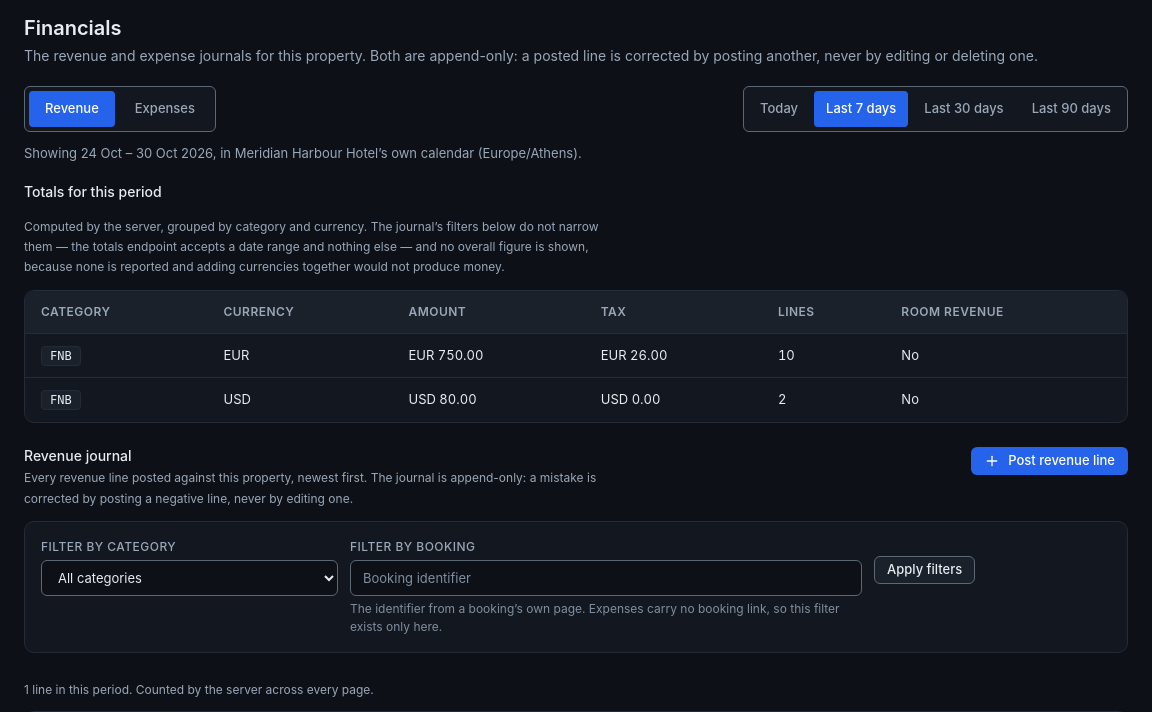
the journal filters › reads a 404 as a wrong filter rather than an empty result
Select "Spa & Wellness (SPA)" in the dropdown labelled "Filter by category". click: (190, 578)
box: [41,560,338,596]
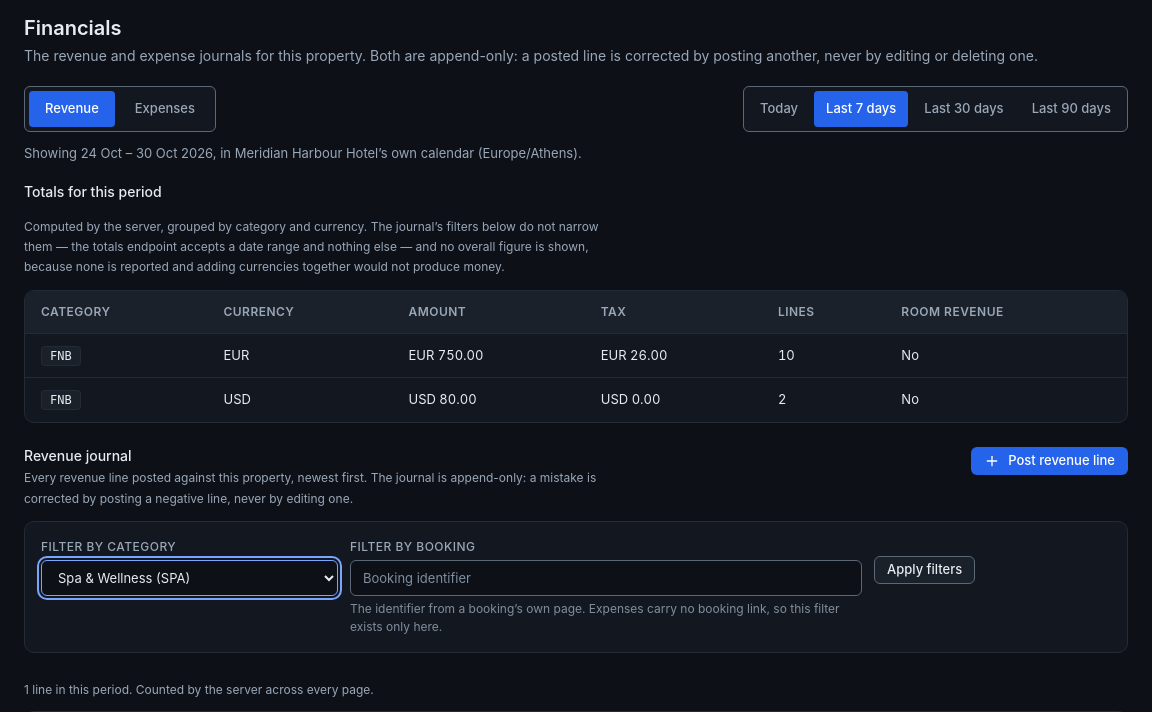
Click the button "Apply filters". click: (925, 570)
box: [874,556,975,584]
(page scrolled)
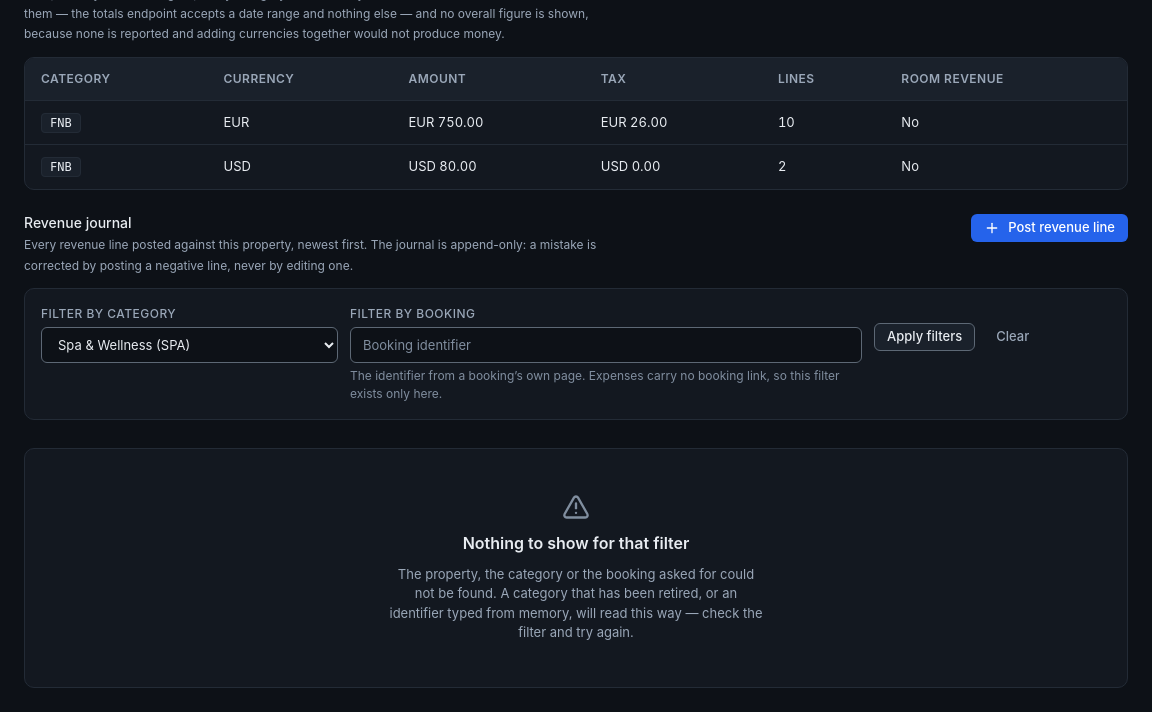
Now the heading "Nothing to show for that filter" is shown, box [463,533,689,553]
